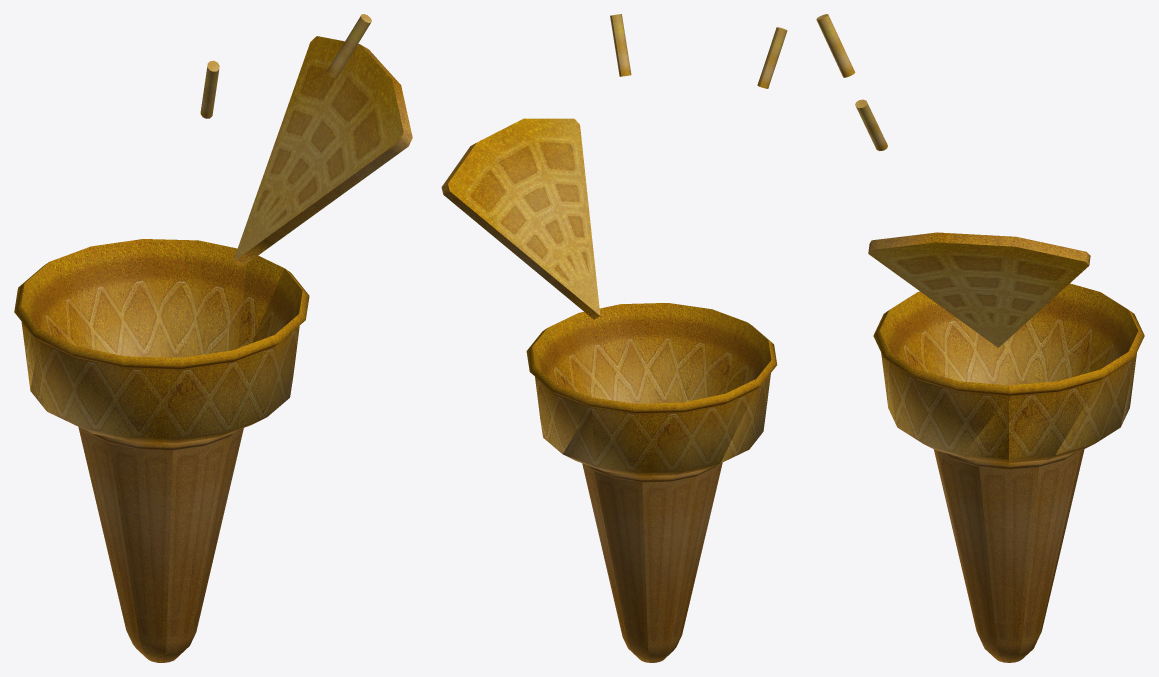
The picture shows the model from 3 angles, left to right: view 1: azimuth 30°, elevation 25°; view 2: azimuth 150°, elevation 25°; view 3: azimuth 270°, elevation 25°; orthographic projection. The views are drawn at different scales.
Visible parts, largest first — view 1: event_obj_kt3_chocolatesundae_root_000_ncl1_1.001; view 2: event_obj_kt3_chocolatesundae_root_000_ncl1_1.001; view 3: event_obj_kt3_chocolatesundae_root_000_ncl1_1.001.
Part boxes in pixels (x1,y1,x2,y2): event_obj_kt3_chocolatesundae_root_000_ncl1_1.001: (14, 14, 412, 662); event_obj_kt3_chocolatesundae_root_000_ncl1_1.001: (441, 14, 787, 662); event_obj_kt3_chocolatesundae_root_000_ncl1_1.001: (816, 14, 1144, 662).
Size of the model in its own units: 48.47 by 93.36 by 44.59.
